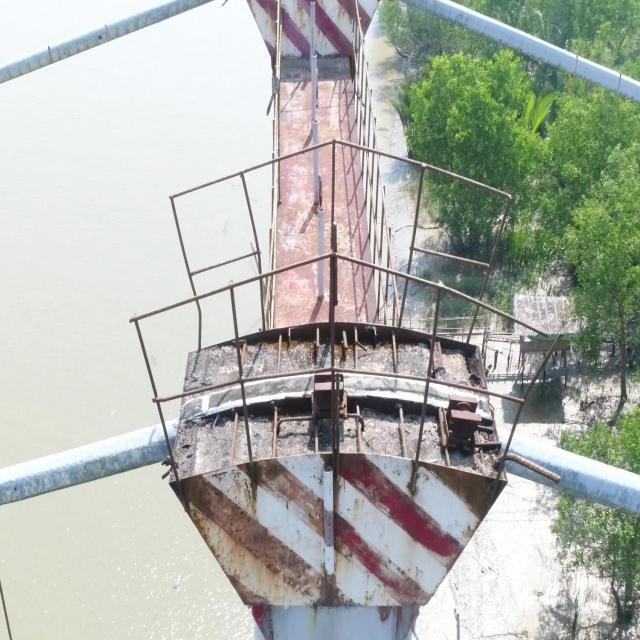crack: (572, 54, 578, 76), (616, 73, 622, 94), (104, 24, 111, 41), (48, 46, 54, 63)
